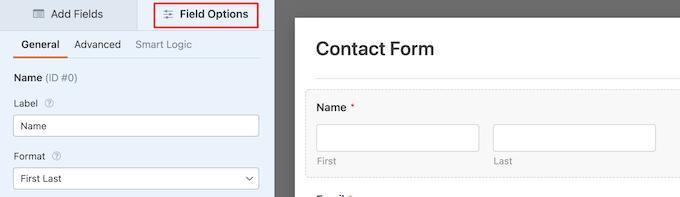button: (141, 1, 276, 33), (1, 1, 140, 31), (14, 33, 70, 59)
dropdown: (16, 168, 260, 190)
input: (14, 116, 261, 138), (495, 127, 654, 156), (319, 126, 481, 154)
label: (315, 38, 439, 60), (9, 70, 84, 89), (134, 38, 195, 54), (315, 102, 364, 121), (75, 38, 124, 54), (12, 150, 50, 166), (12, 96, 43, 111), (492, 157, 518, 171), (315, 155, 340, 169)
